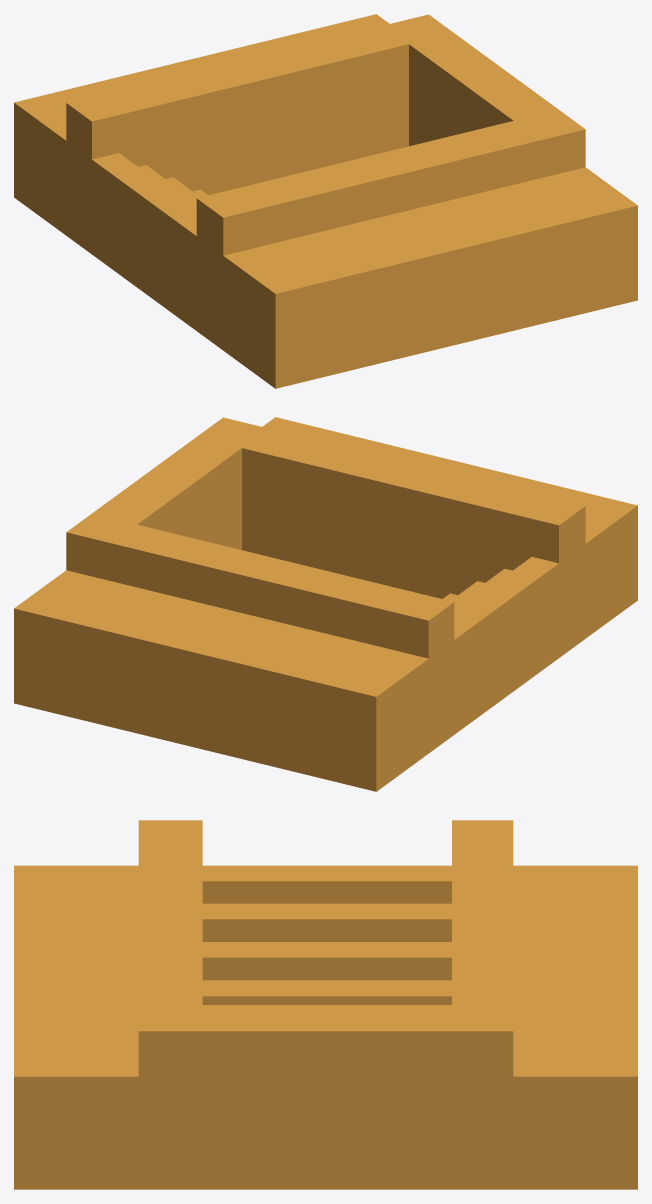
Rendered from train-station-platform-stairs-small.glb.
3 views of the same model, one above another, from view 1: azimuth 30°, elevation 25°; view 2: azimuth 150°, elevation 25°; view 3: azimuth 270°, elevation 25° (orthographic). The views are drawn at different scales.
Parts seen in each view (by area): view 1: train-station-platform-stairs-small; view 2: train-station-platform-stairs-small; view 3: train-station-platform-stairs-small.
Boxes of the visible parts, x1=… form: train-station-platform-stairs-small: x1=14, y1=14, x2=637, y2=388; train-station-platform-stairs-small: x1=14, y1=417, x2=637, y2=791; train-station-platform-stairs-small: x1=14, y1=820, x2=637, y2=1189.
Bounding box in the file's own units: 4 × 1.4 × 5.
